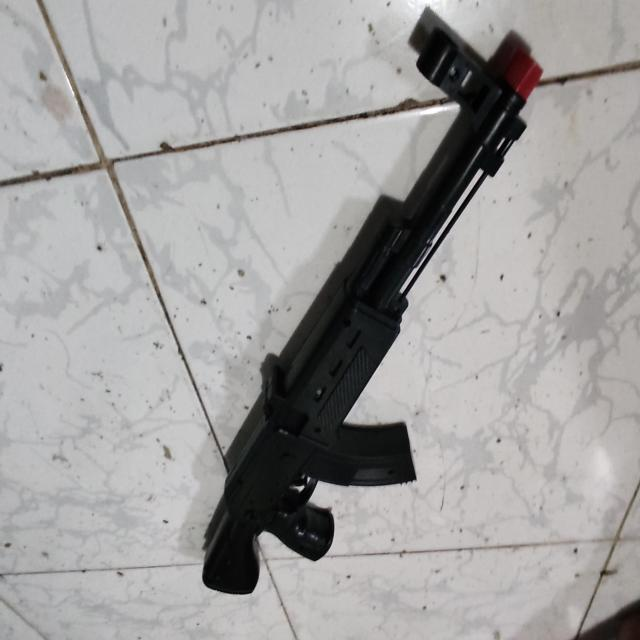rifle: (195, 34, 548, 610)
